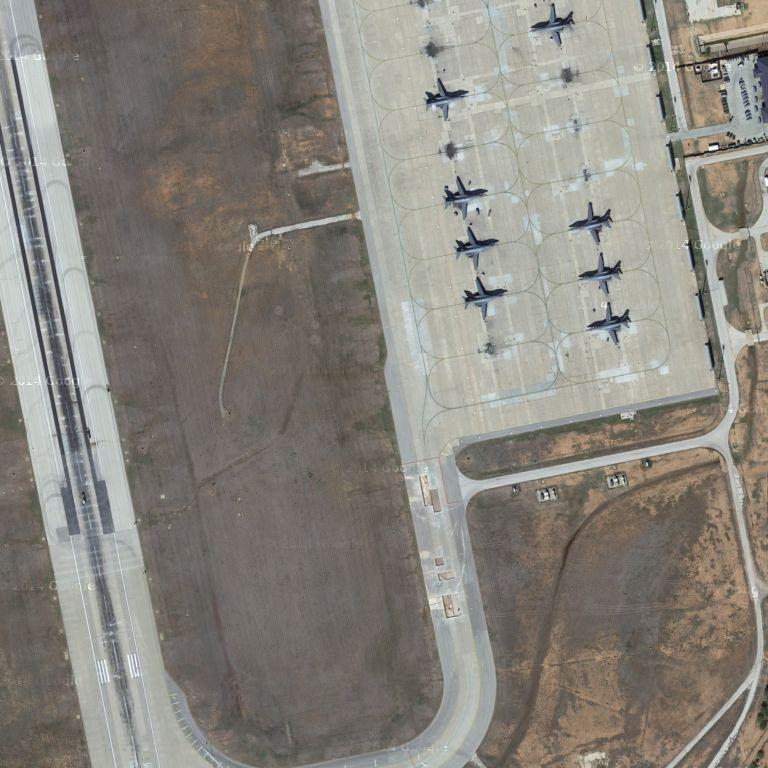B-1B: (437, 172, 491, 227), (450, 221, 502, 273), (457, 274, 511, 324), (418, 74, 473, 123), (584, 299, 637, 349), (565, 199, 620, 246), (529, 2, 582, 49), (577, 252, 627, 299)
